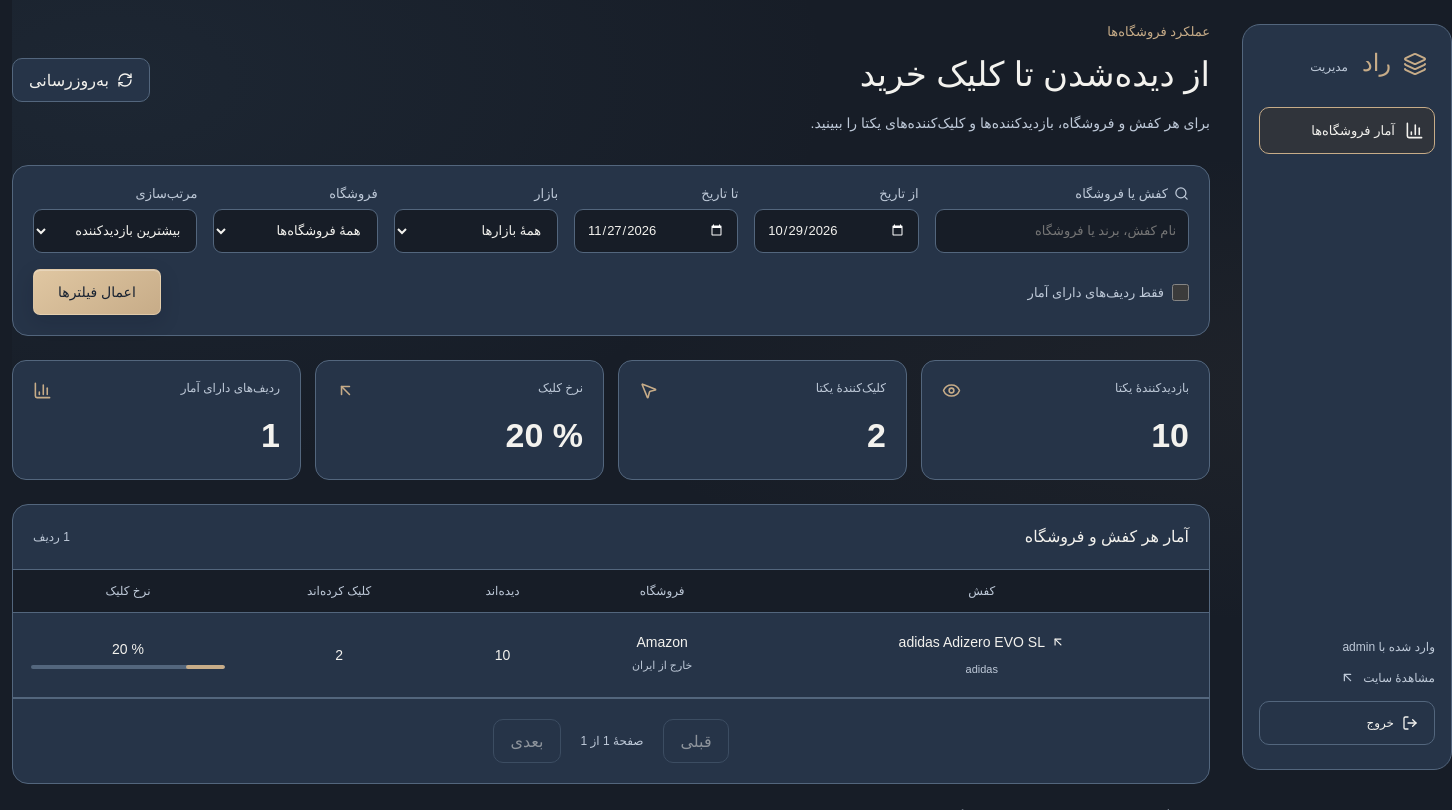
Scenario: admin access and store funnel › sends CSRF on logout and removes private report content
The width and height of the screenshot is (1452, 810).
Expected: the table is shown, [13, 570, 1209, 698]
Click the button "خروج": (1347, 723) [1259, 701, 1435, 745]
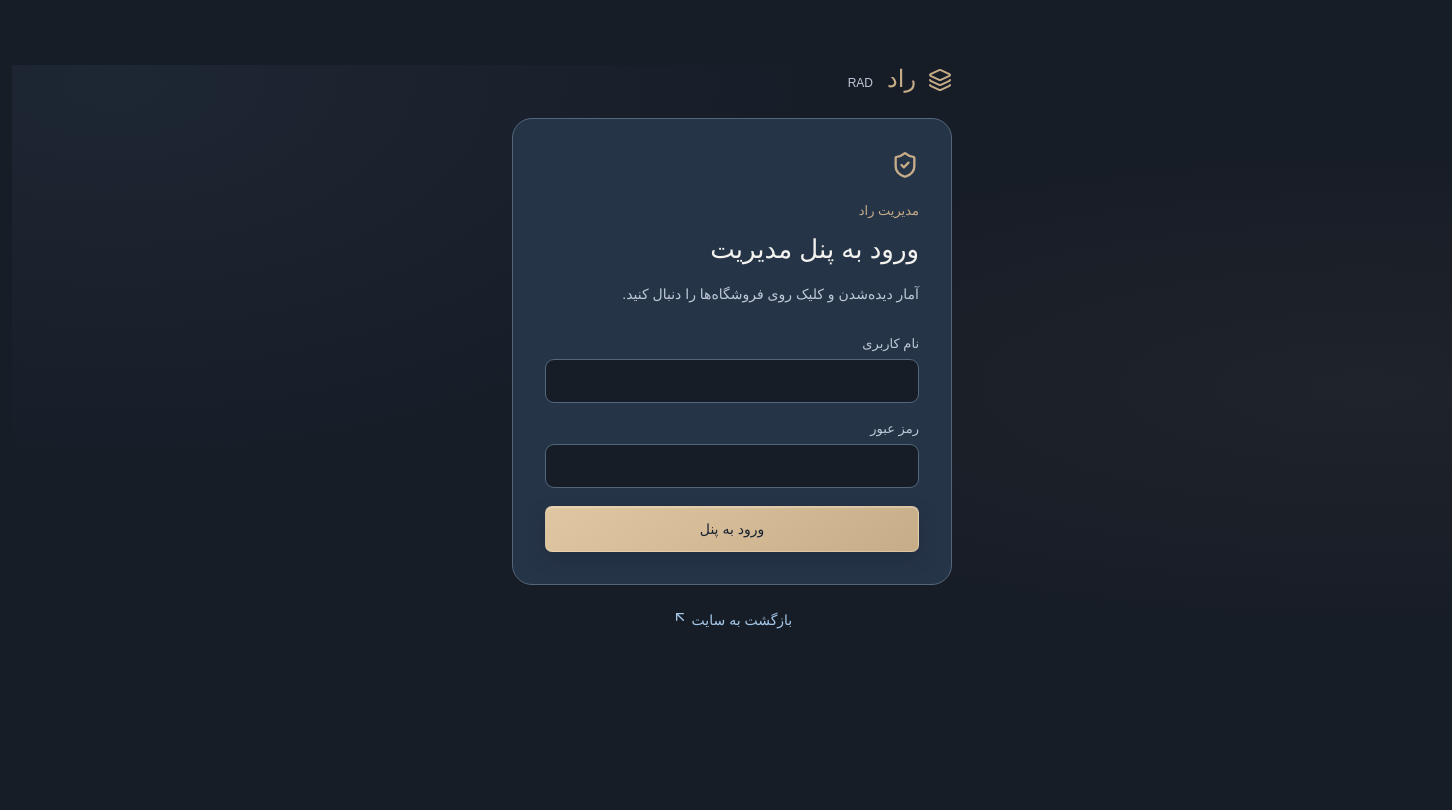
Expected: the heading "ورود به پنل مدیریت" is shown, [710, 234, 919, 264]
Expected: the text "Amazon" is gone
